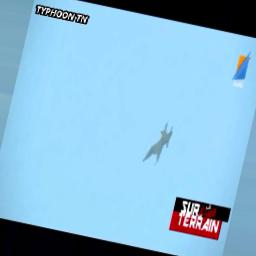Airplane: (139, 121, 175, 167)
